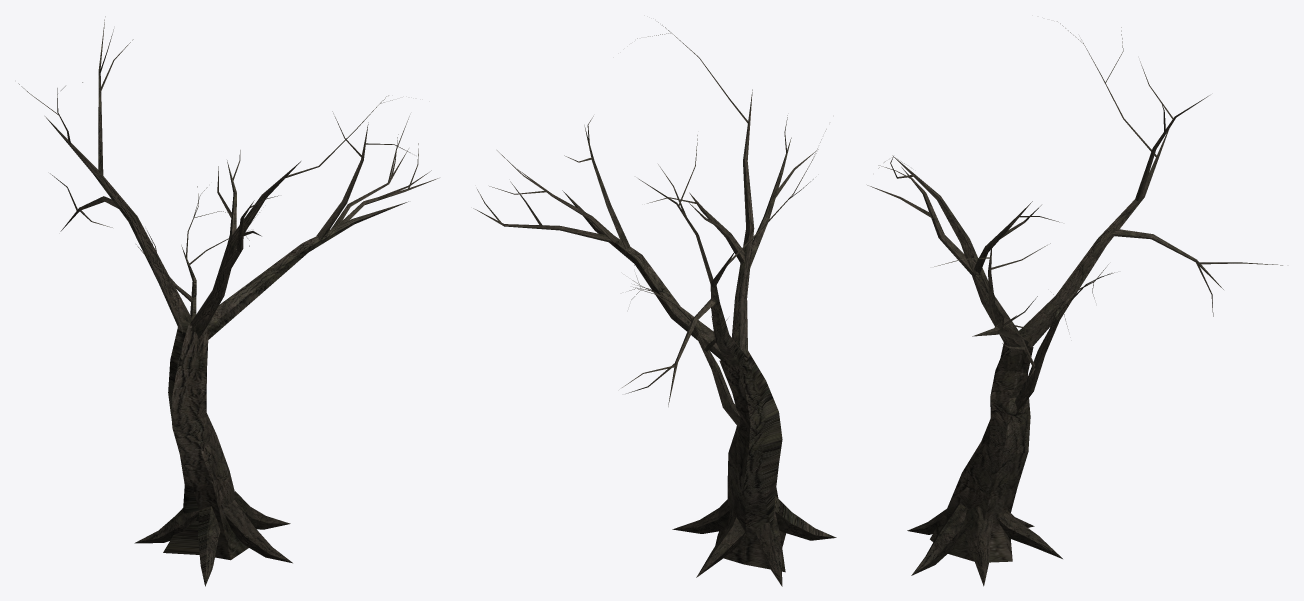
The model's file is tree_dead_a_v5.glb.
The picture shows the model from 3 angles, left to right: view 1: azimuth 30°, elevation 25°; view 2: azimuth 150°, elevation 25°; view 3: azimuth 270°, elevation 25°; orthographic projection. The views are drawn at different scales.
Parts seen in each view (by area): view 1: tree_dead_a_v5; view 2: tree_dead_a_v5; view 3: tree_dead_a_v5.
Part boxes in pixels (left/top/right/bottom): tree_dead_a_v5: left=18, top=16, right=438, bottom=586; tree_dead_a_v5: left=473, top=22, right=836, bottom=586; tree_dead_a_v5: left=867, top=21, right=1282, bottom=586.
Bounding box in the file's own units: 6.21 × 7.35 × 5.8.
Materials: 1 (1 with a texture image).
